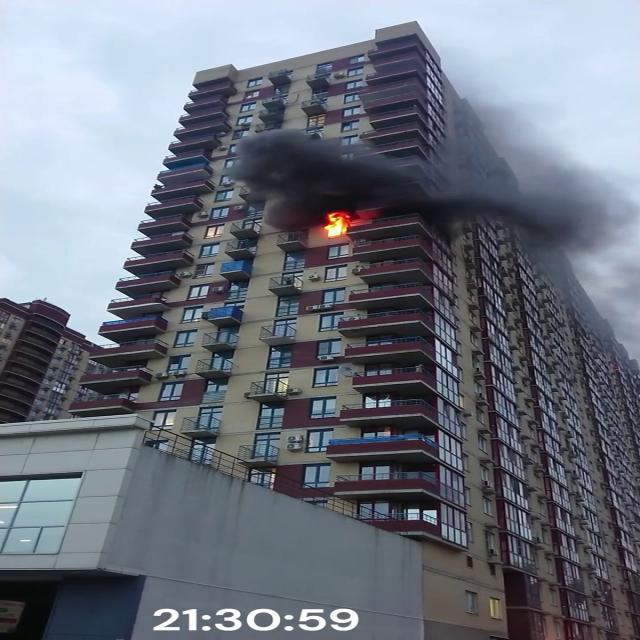Fire: (319, 210, 357, 240)
Smoke: (230, 116, 633, 236)
